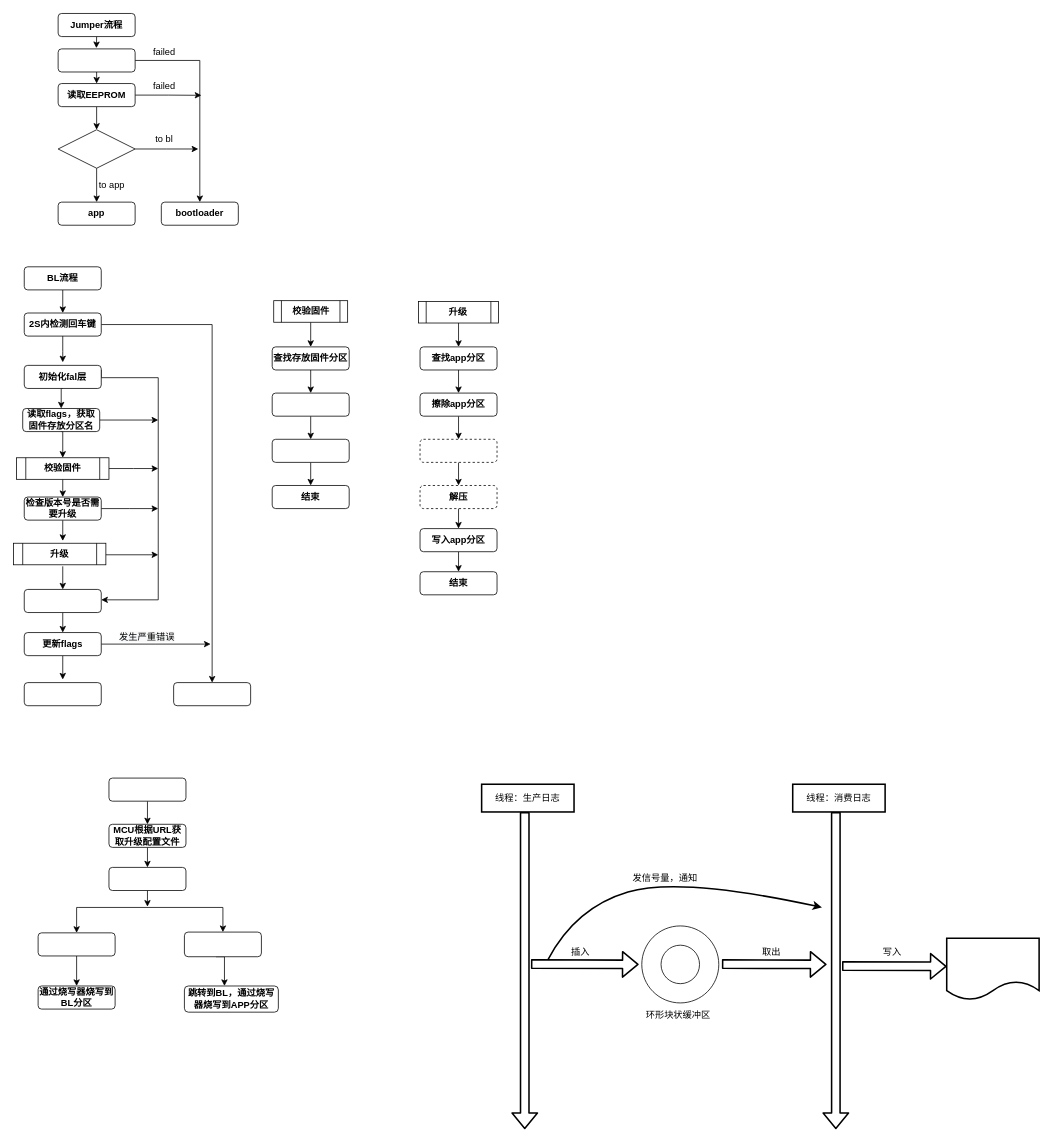
Image size: 1053x1143. Some labels were removed from this diagram. Each missing label, with the centre of its shape:
"flag？" goes at (x=96, y=148).
"shell模式" goes at (x=212, y=694).
"上层触发升级，发送URL" goes at (x=147, y=789).
"初始化EEPROM" goes at (x=96, y=60).
"判断升级结果" goes at (x=62, y=601).
"升级APP" goes at (x=222, y=944).
"升级BL" goes at (x=76, y=944).
"文件系统" goes at (x=993, y=968).
"校验body (crc)" goes at (x=310, y=450).
"校验head（crc等）" goes at (x=310, y=404).
"根据配置文件信息获取目标固件" goes at (x=147, y=879).
"解密" goes at (x=458, y=450).
"跳转到APP" goes at (x=62, y=694).
